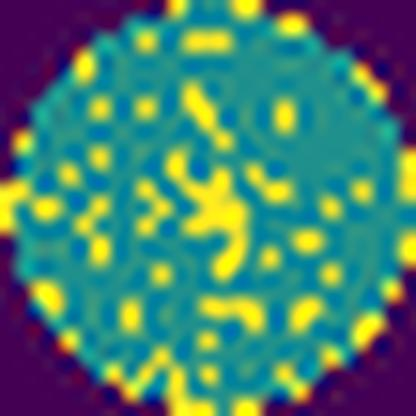Center: (156, 147, 256, 279)
